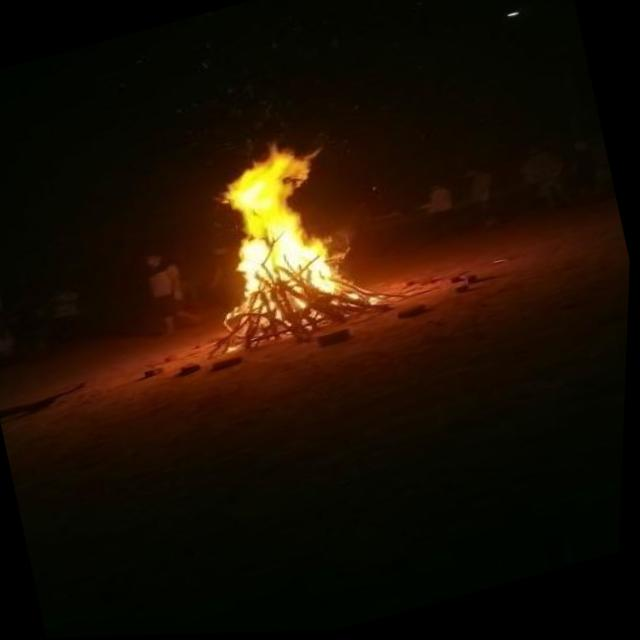fire: (173, 101, 396, 355)
